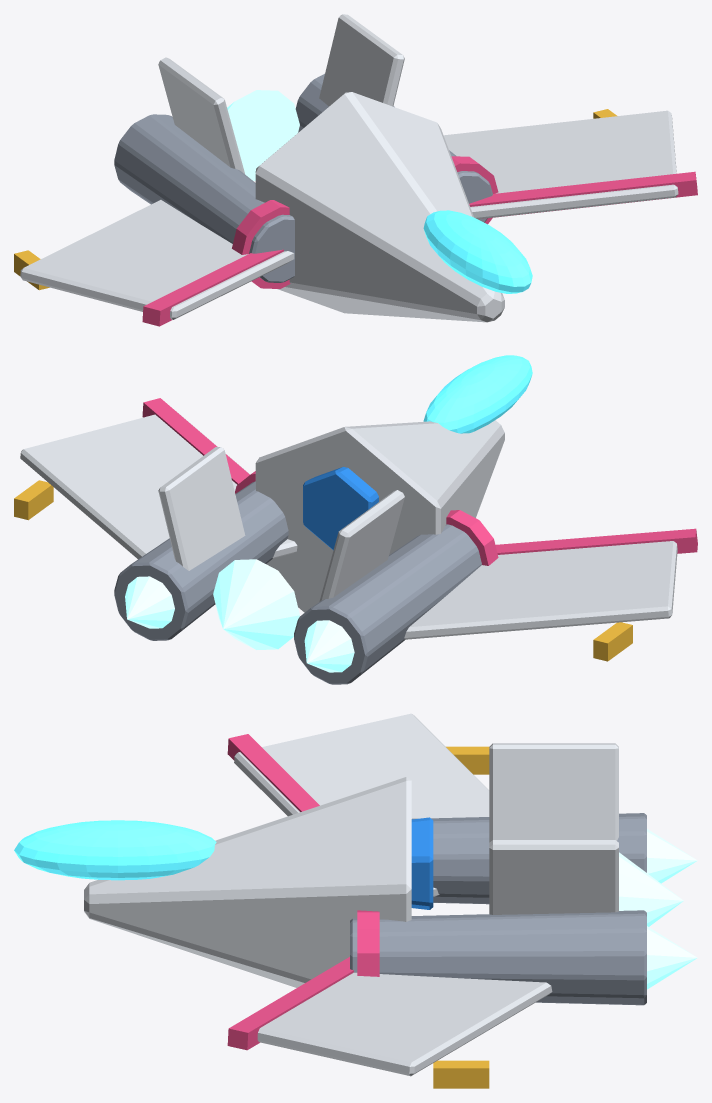
File: hero.glb
3 renders of one model, top to bottom at view 1: azimuth 30°, elevation 25°; view 2: azimuth 150°, elevation 25°; view 3: azimuth 270°, elevation 25°, orthographic. The views are drawn at different scales.
Visible parts, largest first — view 1: hero; view 2: hero; view 3: hero.
Part boxes in pixels (left/top/right/bottom): hero: left=14, top=14, right=697, bottom=326; hero: left=14, top=355, right=697, bottom=684; hero: left=14, top=713, right=697, bottom=1088.
Size of the model in its own units: 4.49 by 1.45 by 3.68.
Materials: 1 (1 with a texture image).
